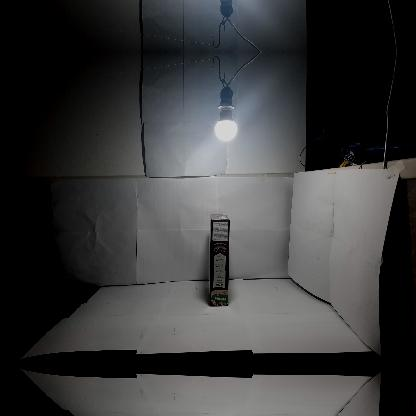Koko-Krunch: (209, 214, 229, 306)
